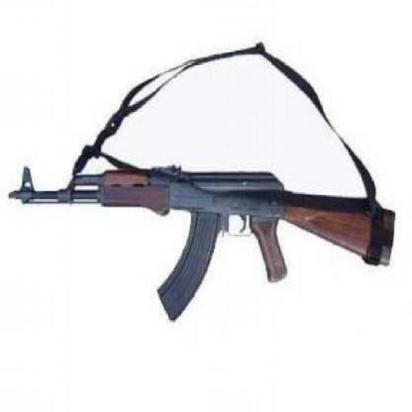Gun: (12, 166, 398, 320)
